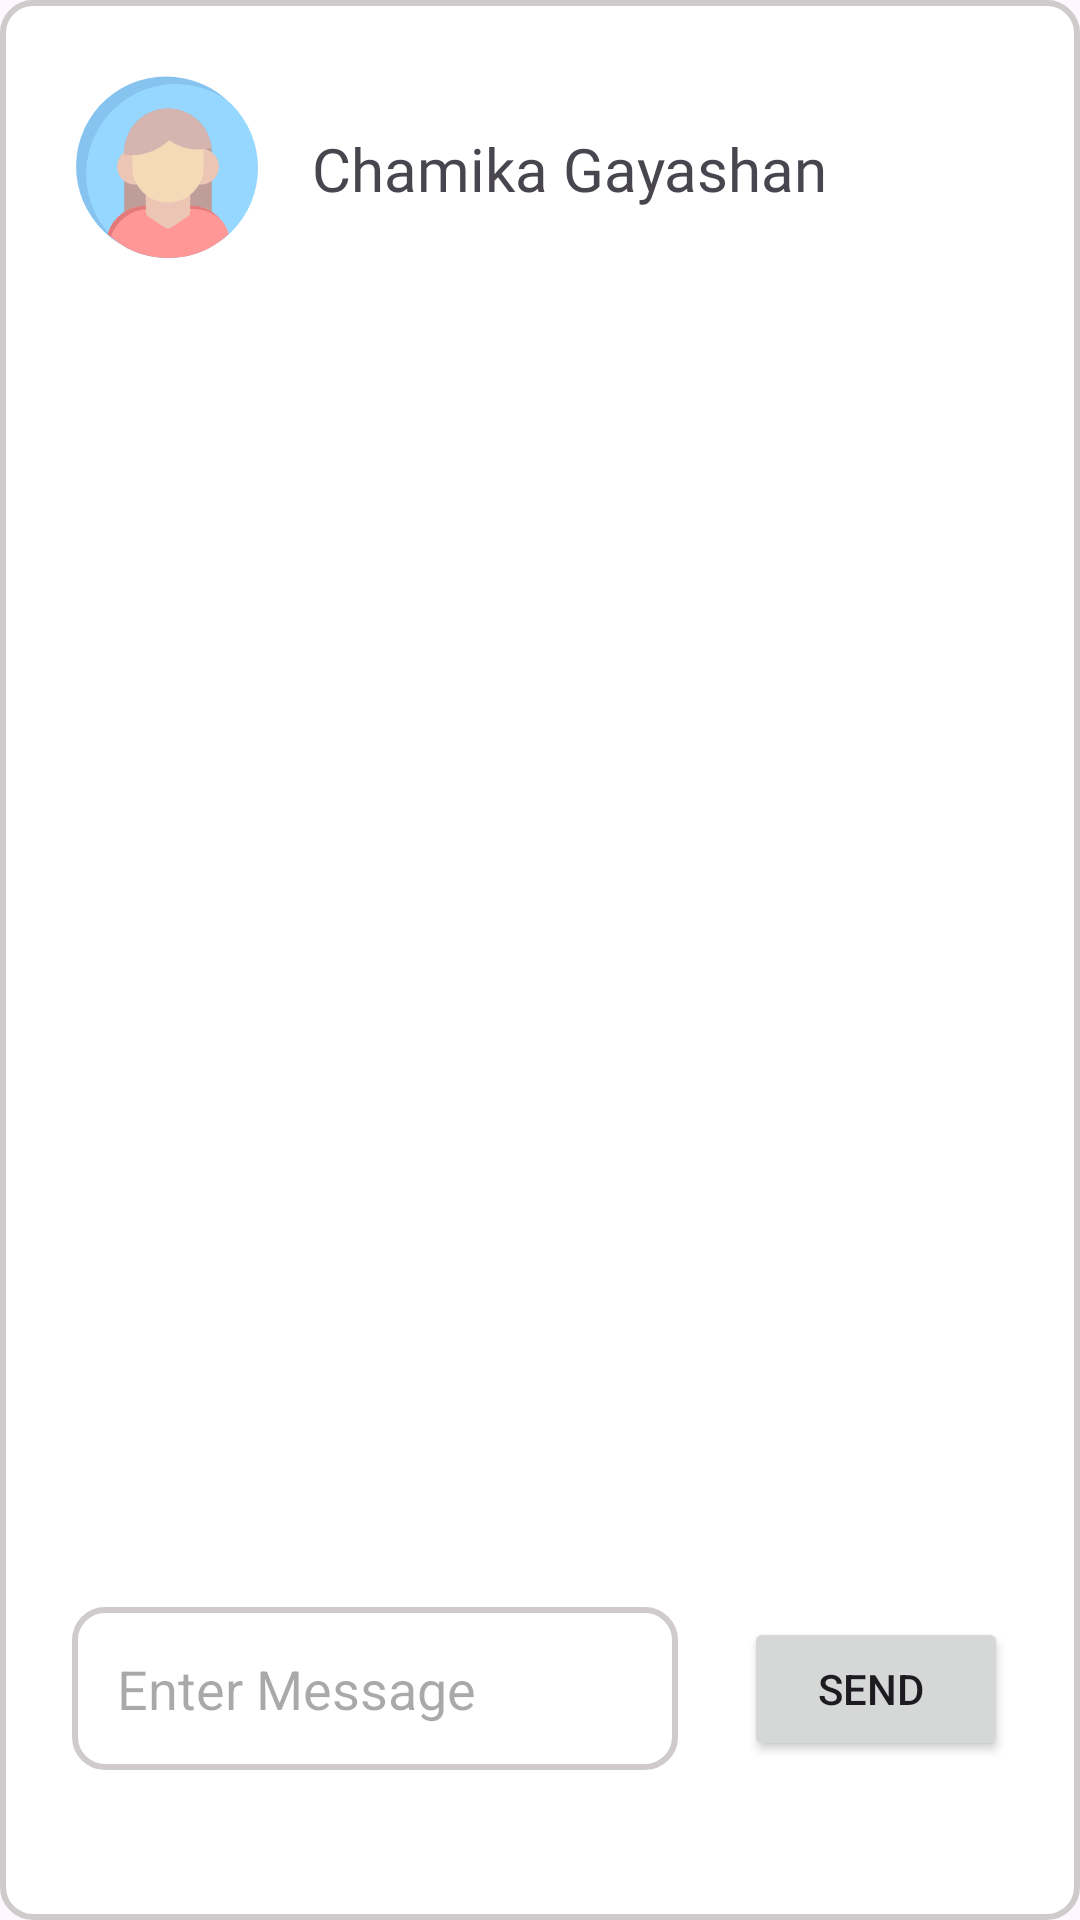

Named icons in this screenshot (1080x1920) and their bounding boxes, bbox=(x1, y1, x2, y2):
profile: bbox=(76, 76, 258, 258)
